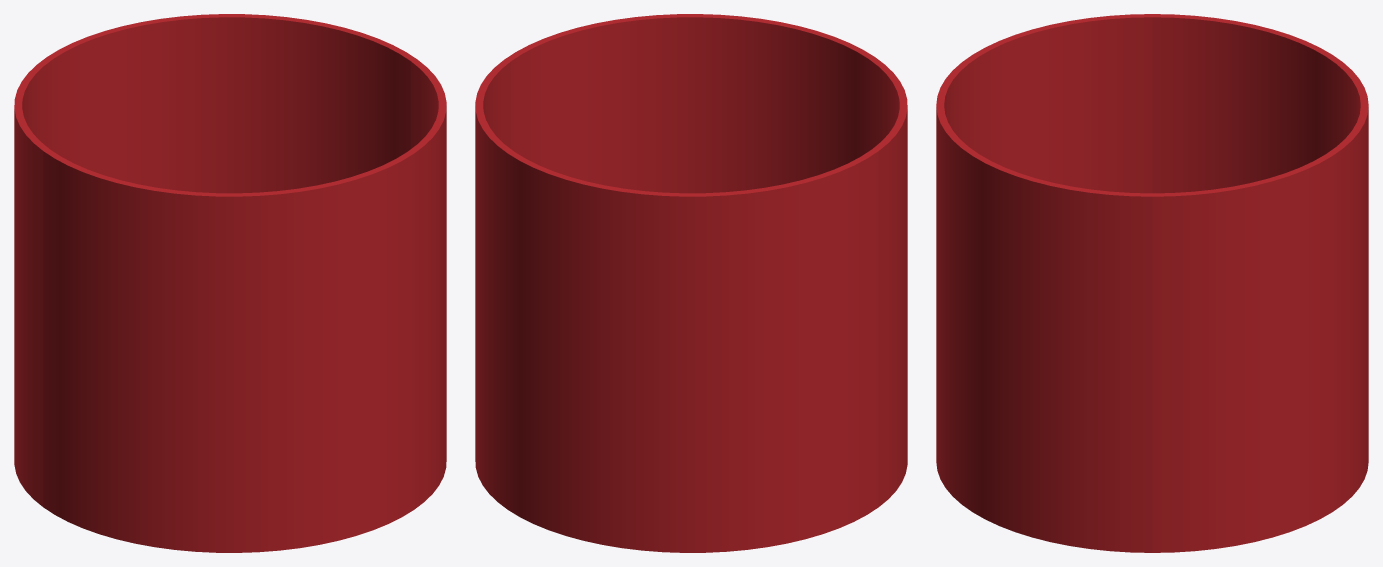
File: flash_mixer_pressure.glb
3 views of the same model, side by side, from view 1: azimuth 30°, elevation 25°; view 2: azimuth 150°, elevation 25°; view 3: azimuth 270°, elevation 25° (orthographic).
Parts seen in each view (by area): view 1: pressure__front, pressure__back; view 2: pressure__back, pressure__front; view 3: pressure__back, pressure__front.
Boxes of the visible parts, x1,y1,x2,y2 form: pressure__front: (43, 59, 446, 552); pressure__back: (14, 14, 417, 506); pressure__back: (475, 59, 878, 552); pressure__front: (504, 14, 907, 506); pressure__back: (1152, 14, 1368, 552); pressure__front: (936, 14, 1152, 552).
Size of the model in its own units: 1.1 by 1 by 1.1.
